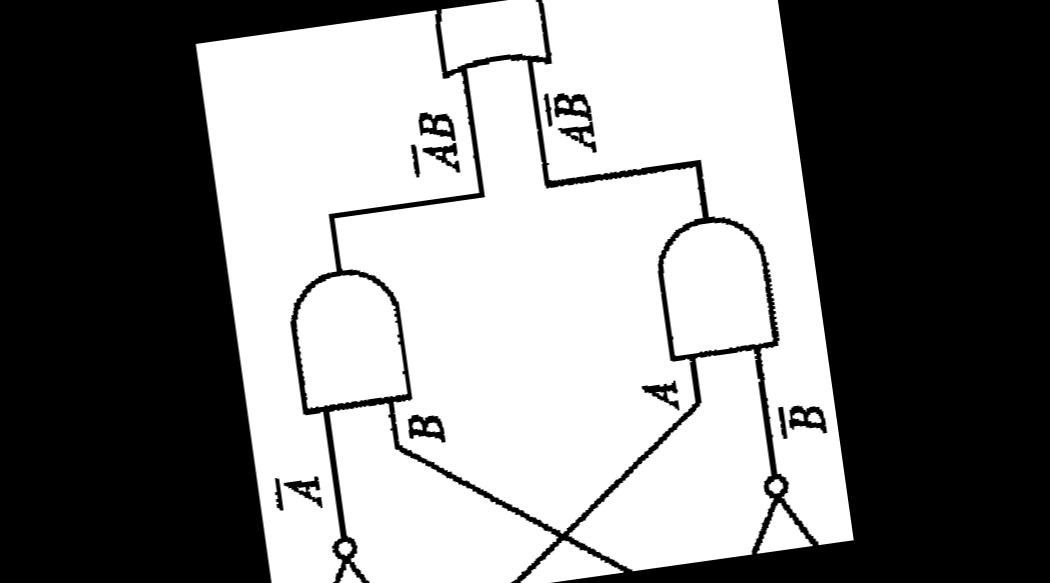and: (270, 252, 421, 423), (642, 197, 788, 370)
not: (716, 458, 841, 558), (285, 520, 408, 583)
or: (423, 0, 558, 87)
